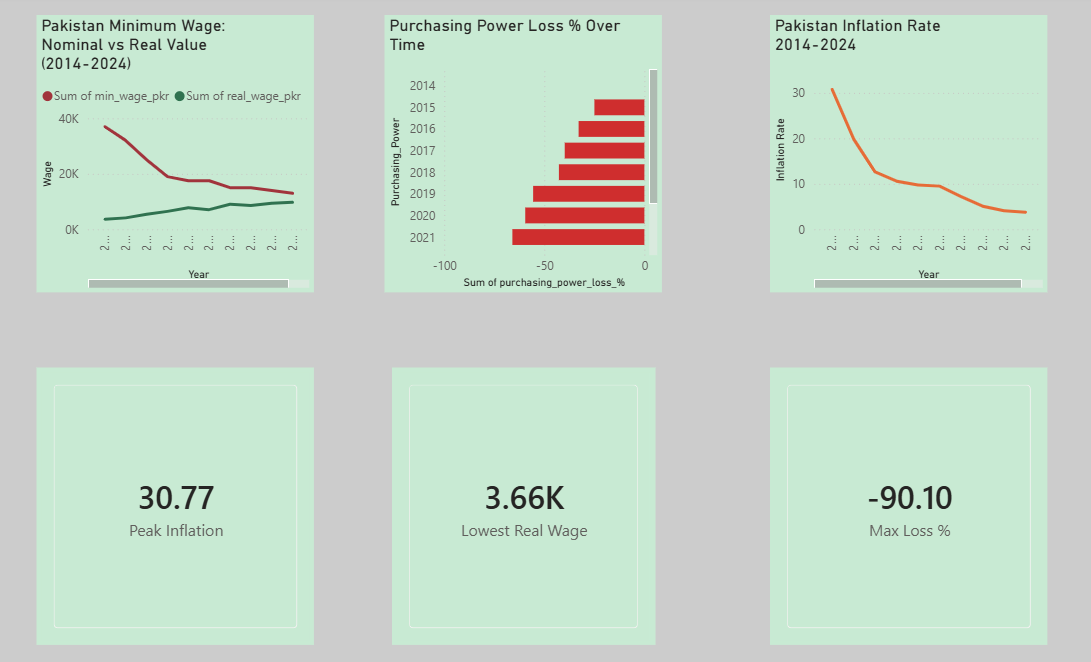

This screenshot's page, from the dashboard's own definition file:
{"tool":"powerbi","page":{"name":"The Impact of Inflation on Real Wages in Pakistan (2014–2024)","canvas":[1280,720],"ordinal":0},"visuals":[{"type":"lineChart","title":"Pakistan Minimum Wage: Nominal vs Real Value (2014-2024)","fields":{"Y":["Sum(pakistan_wages_analysis.min_wage_pkr)","Sum(pakistan_wages_analysis.real_wage_pkr)"],"Category":["pakistan_wages_analysis.year"]},"box":[47.1,21.4,280,280],"z":0},{"type":"lineChart","title":"Pakistan Inflation Rate 2014-2024","fields":{"Category":["pakistan_wages_analysis.year"],"Y":["Sum(pakistan_wages_analysis.inflation_rate)"]},"box":[787.1,21.4,280,280],"z":1000},{"type":"barChart","title":"Purchasing Power Loss % Over Time","fields":{"Category":["pakistan_wages_analysis.Year_Label"],"Y":["Sum(pakistan_wages_analysis.purchasing_power_loss_%)"]},"box":[398.6,21.4,280,280],"z":2000},{"type":"cardVisual","fields":{"Data":["pakistan_wages_analysis.Peak Inflation"]},"box":[47.1,377.1,280,280],"z":3000},{"type":"cardVisual","fields":{"Data":["pakistan_wages_analysis.Lowest Real Wage"]},"box":[405.7,377.1,265.7,280],"z":4000},{"type":"cardVisual","fields":{"Data":["pakistan_wages_analysis.Max Loss %"]},"box":[787.1,377.1,280,280],"z":5000}]}

Visuals, with their boxes on the page's 1280x720 design canvas (x1, y1, x2, y2). These are canvas units, not pixel positions in the 1091x662 screenshot, which may show the page scaled, cropped or inside an application window:
"Pakistan Minimum Wage: Nominal vs Real Value (2014-2024)" lineChart: select_region(47, 21, 327, 301)
"Pakistan Inflation Rate 2014-2024" lineChart: select_region(787, 21, 1067, 301)
"Purchasing Power Loss % Over Time" barChart: select_region(399, 21, 679, 301)
cardVisual - pakistan_wages_analysis.Peak Inflation: select_region(47, 377, 327, 657)
cardVisual - pakistan_wages_analysis.Lowest Real Wage: select_region(406, 377, 671, 657)
cardVisual - pakistan_wages_analysis.Max Loss %: select_region(787, 377, 1067, 657)
